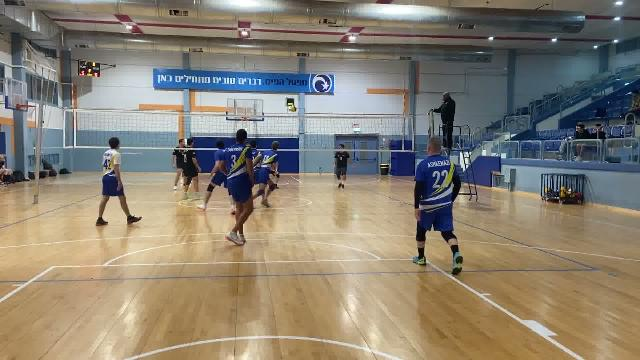ball: (288, 102, 300, 115)
